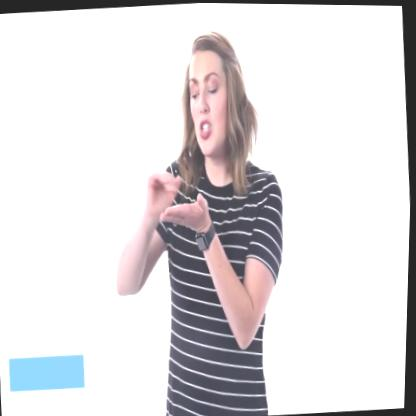ExcuseMe: (142, 156, 216, 244)
